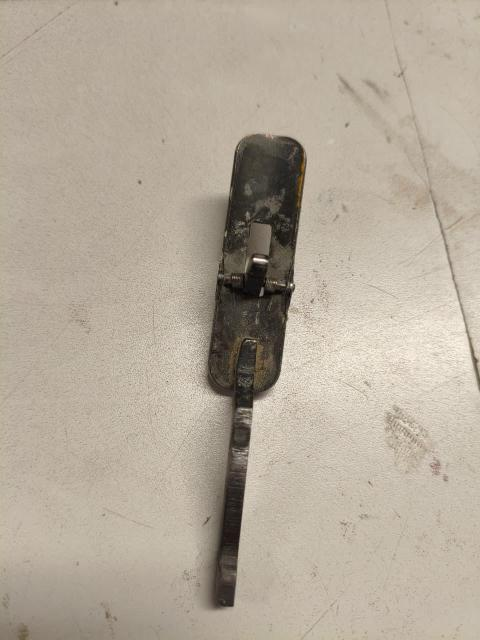Metal: (197, 133, 313, 610)
